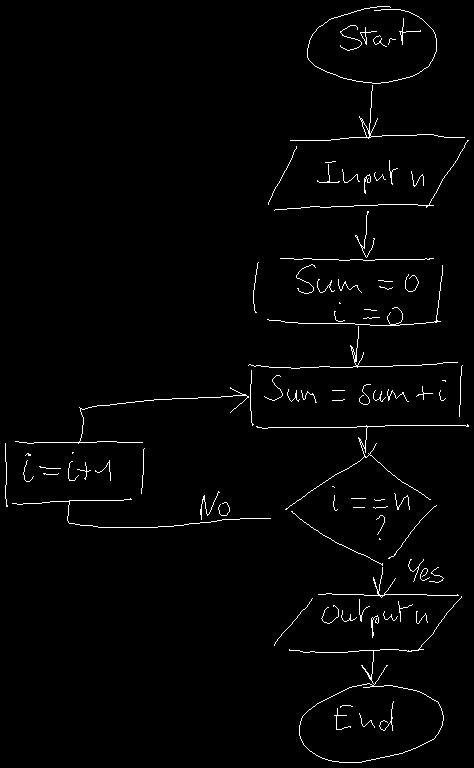arrow: (78, 387, 248, 443), (67, 501, 270, 527), (359, 85, 377, 138), (361, 650, 387, 684), (355, 211, 374, 257), (373, 567, 395, 597), (358, 425, 376, 457), (350, 326, 363, 367)
data: (268, 134, 468, 210), (274, 593, 461, 652)
decision: (285, 453, 436, 565)
process: (248, 362, 468, 428), (253, 258, 442, 325), (5, 441, 144, 506)
terminator: (299, 683, 443, 762), (307, 6, 436, 83)
text: (296, 264, 418, 324), (264, 375, 445, 404), (332, 486, 409, 539), (321, 599, 427, 637), (317, 160, 423, 193), (340, 18, 420, 50), (23, 452, 110, 481), (334, 701, 393, 730), (200, 491, 229, 519), (408, 559, 443, 582)
